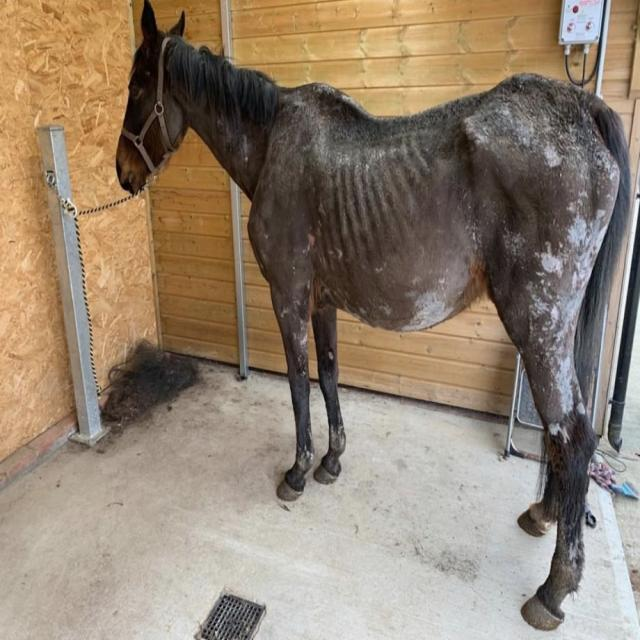horse: (116, 0, 630, 629)
